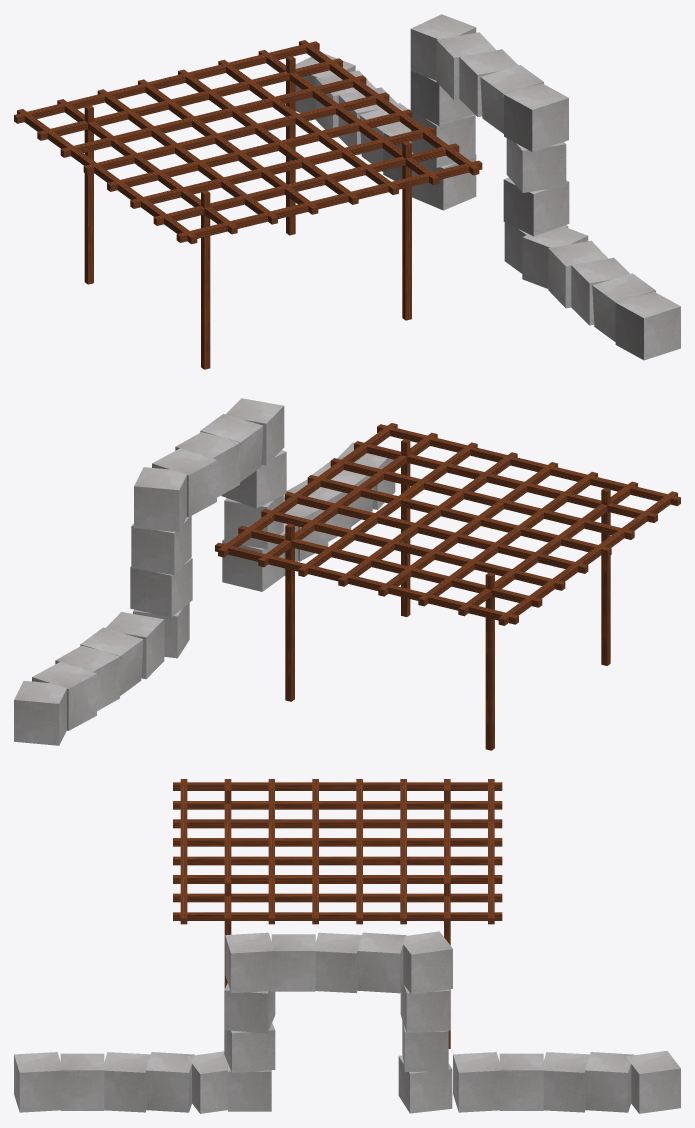
Rendered from vrtc_techDemo.fbx.
The picture shows the model from 3 angles, top to bottom: view 1: azimuth 30°, elevation 25°; view 2: azimuth 150°, elevation 25°; view 3: azimuth 270°, elevation 25°; orthographic projection. The views are drawn at different scales.
Parts seen in each view (by area): view 1: Cube_011, Cube_016, Cube_012, Cube_010, Cube_001, Cube_002, Cube_006, Cube_005, Cube_007, Cube_009, Cube_008, Cube_003 (+2 smaller); view 2: Cube_011, Cube_012, Cube_016, Cube_006, Cube_004, Cube_005, Cube_007, Cube_002, Cube_008, Cube_009, Cube_010, Cube (+2 smaller); view 3: Cube_011, Cube_012, Cube_016, Cube_006, Cube_007, Cube_010, Cube_009, Cube_008, Cube_003, Cube_001, Cube_002, Cube_005 (+2 smaller).
Part boxes in pixels (x1=…): Cube_011: x1=14, y1=40, x2=482, y2=369; Cube_016: x1=522, y1=226, x2=680, y2=360; Cube_012: x1=295, y1=53, x2=413, y2=180; Cube_010: x1=504, y1=83, x2=568, y2=151; Cube_001: x1=503, y1=177, x2=569, y2=236; Cube_002: x1=506, y1=138, x2=566, y2=192; Cube_006: x1=410, y1=14, x2=476, y2=80; Cube_005: x1=410, y1=71, x2=474, y2=125; Cube_007: x1=436, y1=32, x2=496, y2=99; Cube_009: x1=480, y1=65, x2=543, y2=133; Cube_008: x1=459, y1=49, x2=518, y2=116; Cube_003: x1=412, y1=153, x2=476, y2=210; Cube_011: x1=215, y1=423, x2=680, y2=750; Cube_012: x1=14, y1=612, x2=164, y2=745; Cube_016: x1=281, y1=442, x2=395, y2=575; Cube_006: x1=134, y1=467, x2=186, y2=531; Cube_004: x1=130, y1=558, x2=192, y2=617; Cube_005: x1=131, y1=516, x2=191, y2=574; Cube_007: x1=152, y1=448, x2=216, y2=517; Cube_002: x1=221, y1=450, x2=286, y2=508; Cube_008: x1=175, y1=432, x2=239, y2=497; Cube_009: x1=200, y1=414, x2=263, y2=482; Cube_010: x1=226, y1=398, x2=284, y2=465; Cube: x1=222, y1=533, x2=284, y2=591; Cube_011: x1=173, y1=779, x2=502, y2=1048; Cube_012: x1=453, y1=1051, x2=680, y2=1113; Cube_016: x1=14, y1=1051, x2=230, y2=1113; Cube_006: x1=403, y1=931, x2=452, y2=994; Cube_007: x1=357, y1=932, x2=406, y2=993; Cube_010: x1=225, y1=932, x2=271, y2=993; Cube_009: x1=271, y1=934, x2=315, y2=991; Cube_008: x1=315, y1=932, x2=361, y2=993; Cube_003: x1=398, y1=1055, x2=452, y2=1113; Cube_001: x1=224, y1=1023, x2=275, y2=1073; Cube_002: x1=224, y1=983, x2=275, y2=1033; Cube_005: x1=400, y1=984, x2=450, y2=1032.
Size of what is drawn, in the model's own units: 20.76 by 8.57 by 30.38.
Materials: 2 (2 with a texture image).
